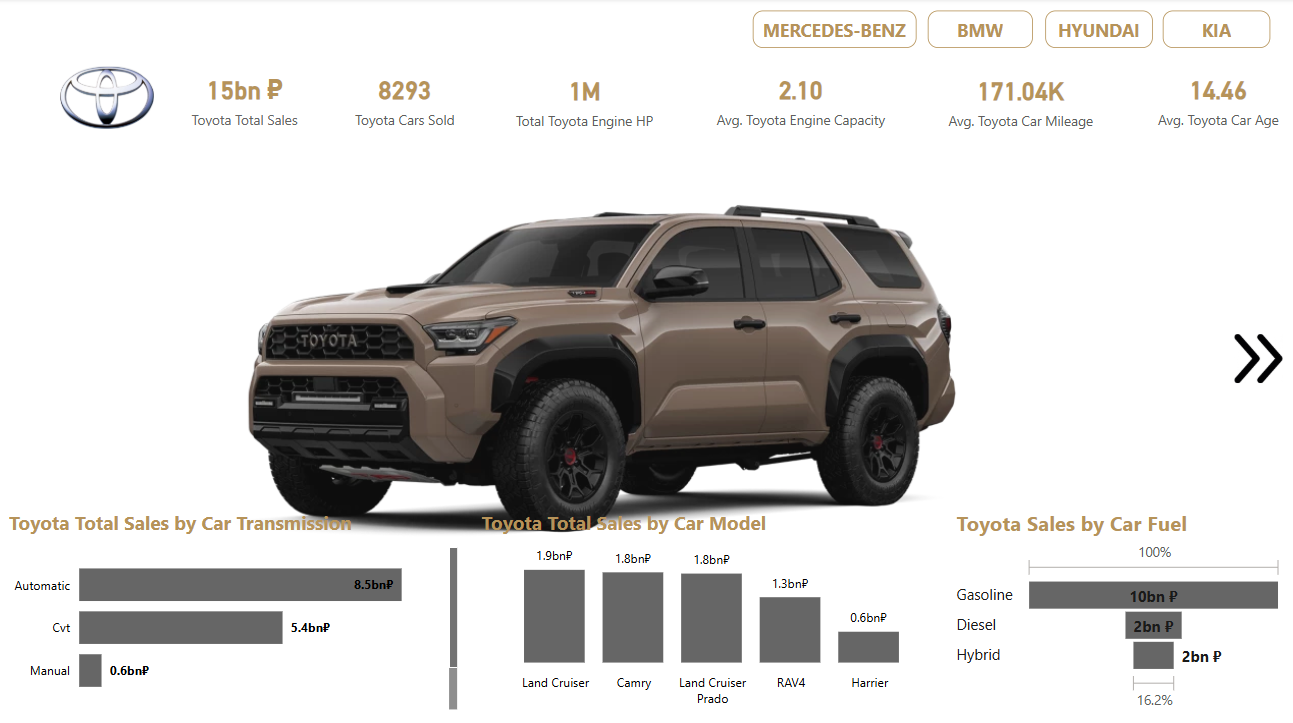

What the dashboard file says about the page in this screenshot:
{"tool":"powerbi","page":{"name":"TOYOTA","canvas":[1280,720],"ordinal":0},"visuals":[{"type":"card","fields":{"Values":["Sum(car_data.Car Price)"]},"box":[188,66.6,116.6,64.5],"z":0},{"type":"card","fields":{"Values":["Sum(car_data.Car Engine HP)"]},"box":[503.2,64.5,153.4,68.7],"z":1000},{"type":"card","fields":{"Values":["car_data.Avg. Car Engine Capacity"]},"box":[701,65.1,182.8,67.5],"z":2000},{"type":"card","fields":{"Values":["car_data.Average Car Age"]},"box":[1132.1,65.2,138.6,67.2],"z":3000},{"type":"barChart","fields":{"Category":["car_data.Car Transmission"],"Y":["Sum(car_data.Car Price)"]},"box":[9.6,502.2,450.1,201.7],"z":4000},{"type":"columnChart","fields":{"Category":["car_data.Car Model"],"Y":["Sum(car_data.Car Price)"]},"box":[473.4,502.2,452.8,201.7],"z":5000},{"type":"funnel","fields":{"Category":["car_data.Car Fuel"],"Y":["Sum(car_data.Car Price)"]},"box":[940,502.2,330.7,201.7],"z":6000},{"type":"card","fields":{"Values":["car_data.Avg. Car Mileage"]},"box":[927.6,65.9,160.5,67.2],"z":7000},{"type":"card","fields":{"Values":["CountNonNull(car_data.Car Brand)"]},"box":[349,65.2,109.8,67.2],"z":8000},{"type":"image","box":[60.4,49.4,101.5,97.4],"z":9000},{"type":"image","box":[1200.7,325.2,79.6,57.6],"z":11000},{"type":"shape","box":[916.6,12.3,102.9,37],"z":12000},{"type":"shape","box":[1031.9,12.3,105.7,37],"z":13000},{"type":"shape","box":[1147.2,12.3,105.7,37],"z":14000},{"type":"shape","box":[745.1,12.3,160.5,37],"z":15000}]}

Visuals, with their boxes in screenshot pixels (x1, y1, x2, y2), scaled from the page's 1280x720 canvas onto the 1293x723 screenshot:
card - Sum(car_data.Car Price): rect(190, 67, 308, 132)
card - Sum(car_data.Car Engine HP): rect(508, 65, 663, 134)
card - car_data.Avg. Car Engine Capacity: rect(708, 65, 893, 133)
card - car_data.Average Car Age: rect(1144, 65, 1284, 133)
barChart - car_data.Car Transmission x Sum(car_data.Car Price): rect(10, 504, 464, 707)
columnChart - car_data.Car Model x Sum(car_data.Car Price): rect(478, 504, 936, 707)
funnel - car_data.Car Fuel x Sum(car_data.Car Price): rect(950, 504, 1284, 707)
card - car_data.Avg. Car Mileage: rect(937, 66, 1099, 134)
card - CountNonNull(car_data.Car Brand): rect(353, 65, 463, 133)
image: rect(61, 50, 164, 147)
image: rect(1213, 327, 1292, 384)
shape: rect(926, 12, 1030, 50)
shape: rect(1042, 12, 1149, 50)
shape: rect(1159, 12, 1266, 50)
shape: rect(753, 12, 915, 50)
